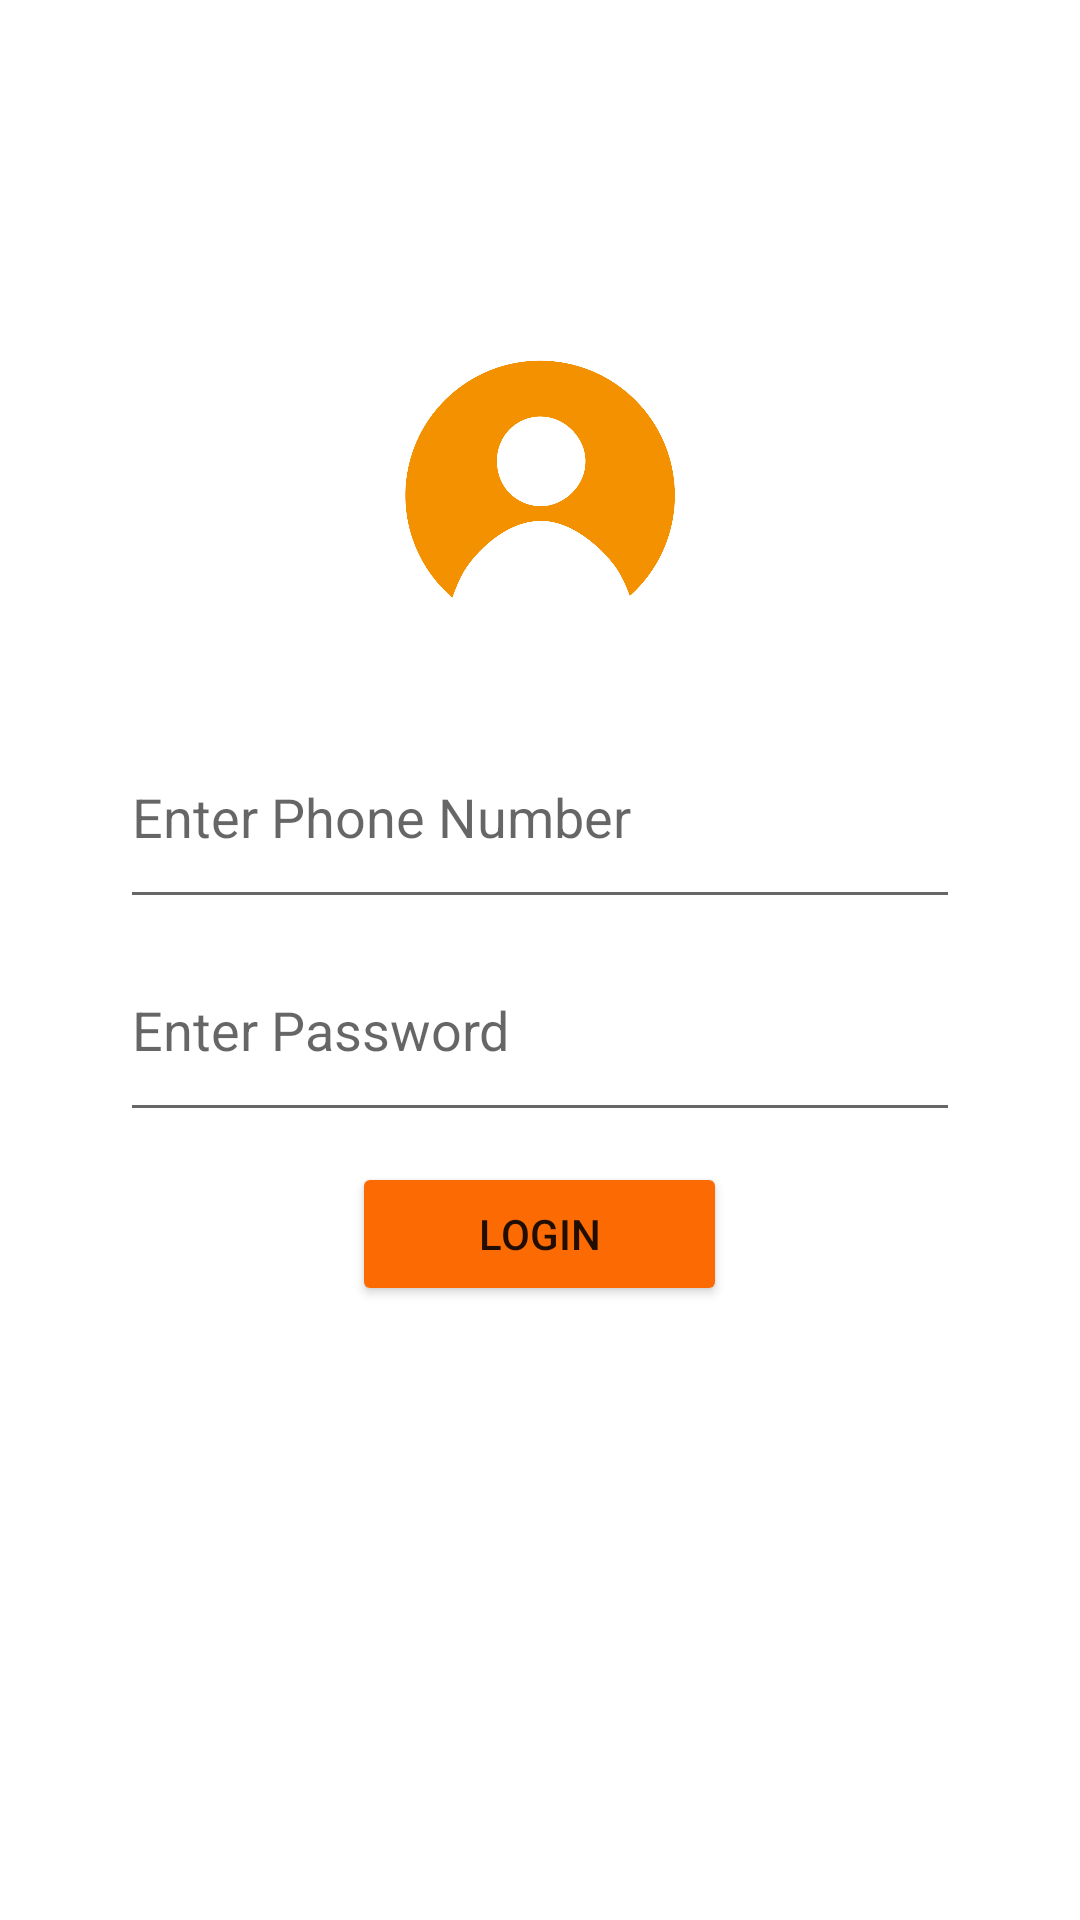

Locate icon controls on the screen. Image size 1080×1920, boxes as bbox=[x1, y1, x2, y2].
usericon: bbox=[405, 360, 675, 598]
